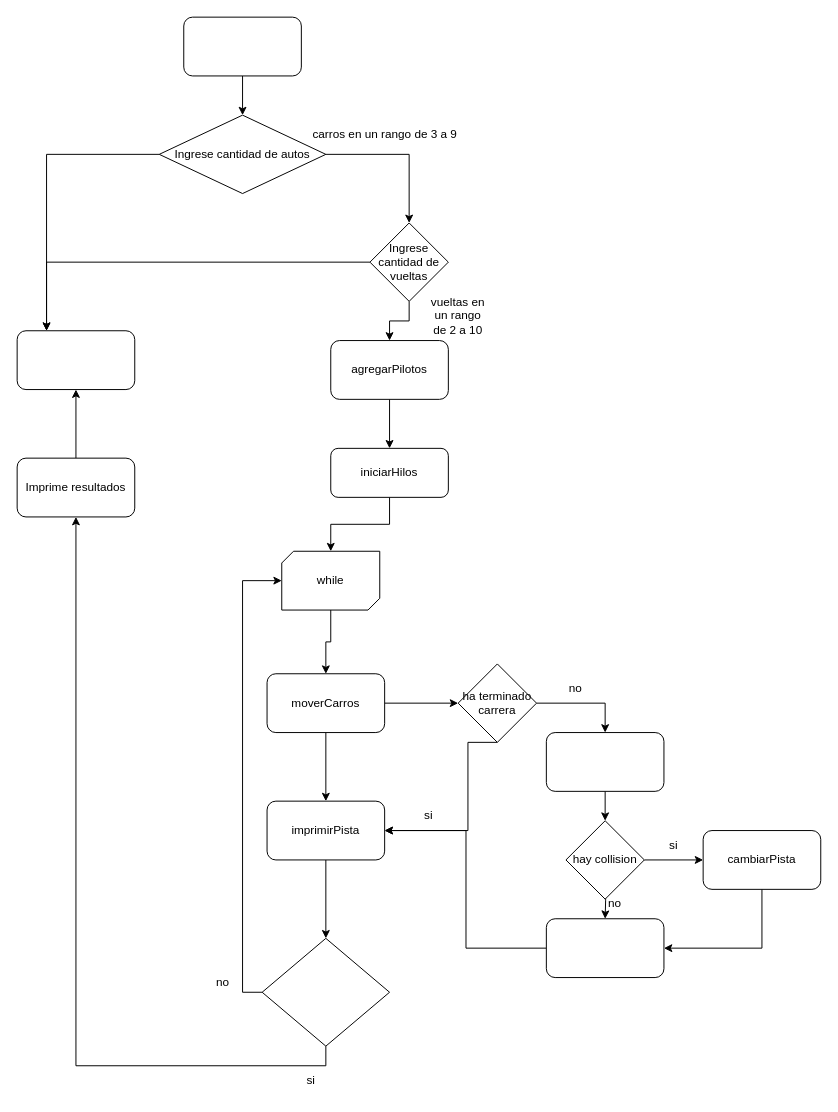
This 838x1112 diagram has some shape labels left out. The shapes that lost their labels are listed below. From the top down, each one's box as (x1, y1, x2, y2) in pixels, then its label:
(183, 16, 301, 76): Iniciamos el programa
(16, 330, 135, 390): Fin del Programa
(545, 732, 664, 791): calcular aceleración
(545, 918, 664, 978): calcularPos
(261, 937, 390, 1046): si todos los carros terminaron
